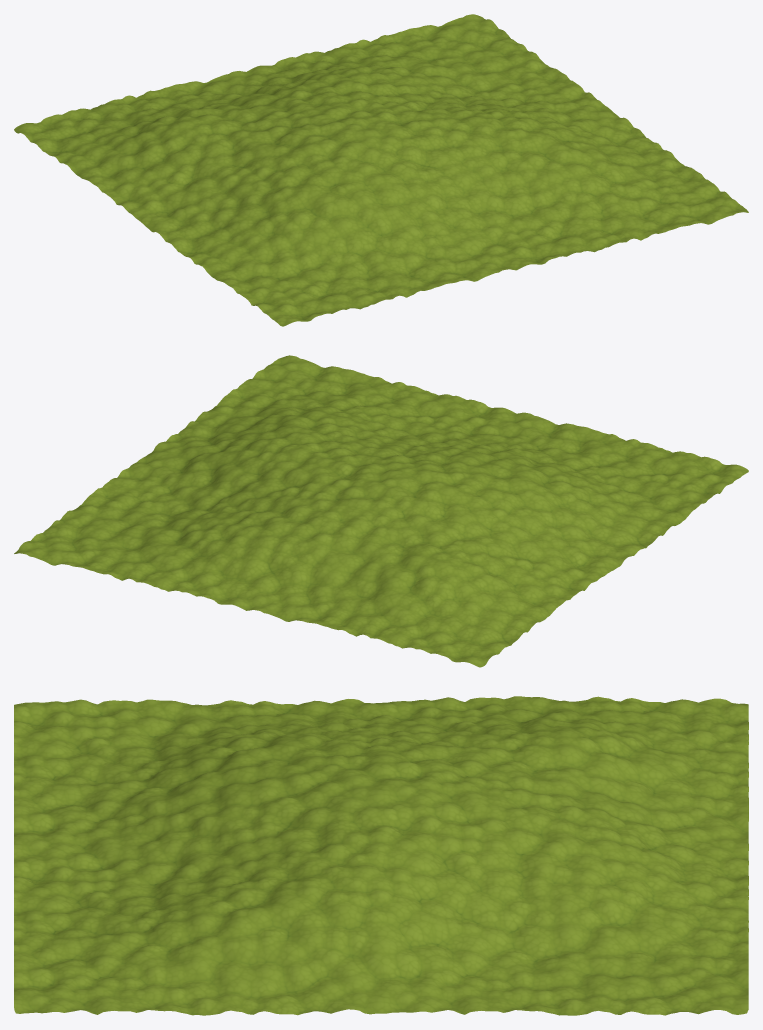
Rendered from mossPlane_2.fbx.
3 views of the same model, one above another, from view 1: azimuth 30°, elevation 25°; view 2: azimuth 150°, elevation 25°; view 3: azimuth 270°, elevation 25° (orthographic). The views are drawn at different scales.
Parts seen in each view (by area): view 1: mossPlane2_LOD0; view 2: mossPlane2_LOD0; view 3: mossPlane2_LOD0.
Part boxes in pixels (x1,y1,x2,y2): mossPlane2_LOD0: [14, 14, 748, 326]; mossPlane2_LOD0: [14, 355, 748, 667]; mossPlane2_LOD0: [14, 696, 748, 1015].
Size of what is drawn, in the model's own units: 200 by 18.77 by 200.
